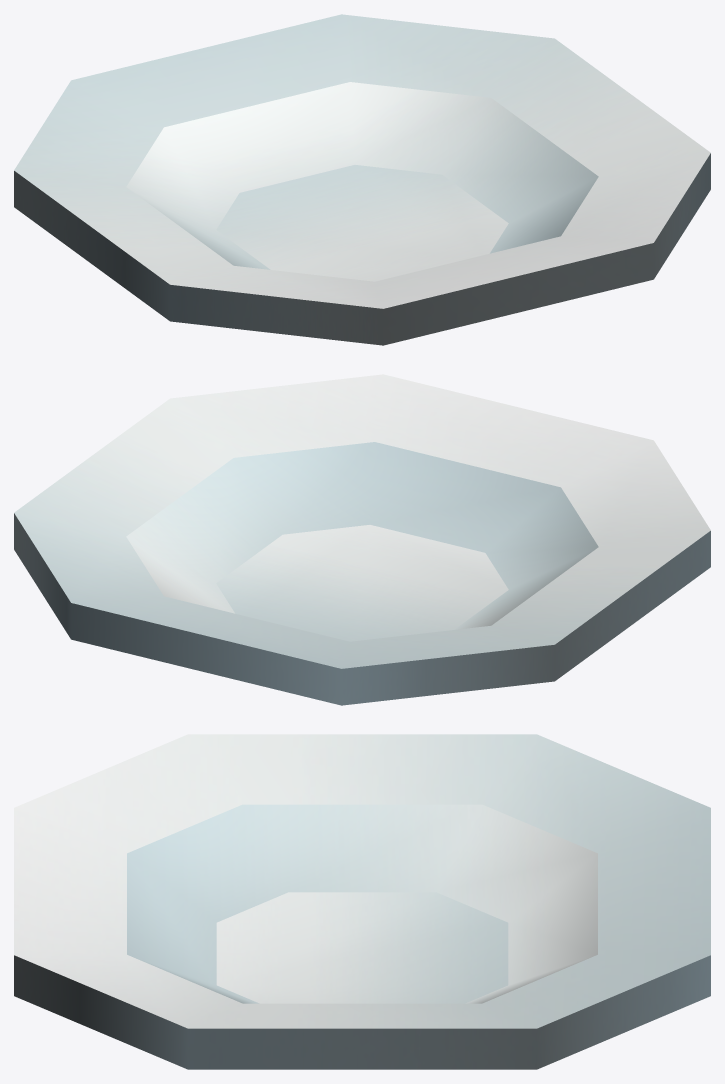
The model's file is plate_silver.fbx.
3 renders of one model, top to bottom at view 1: azimuth 30°, elevation 25°; view 2: azimuth 150°, elevation 25°; view 3: azimuth 270°, elevation 25°, orthographic. The views are drawn at different scales.
Parts seen in each view (by area): view 1: plate_silver; view 2: plate_silver; view 3: plate_silver.
Part boxes in pixels (x1,y1,x2,y2): plate_silver: (14, 14, 710, 345); plate_silver: (14, 374, 710, 705); plate_silver: (14, 734, 710, 1069).
Size of the model in its own units: 51.71 by 7.63 by 51.71.
